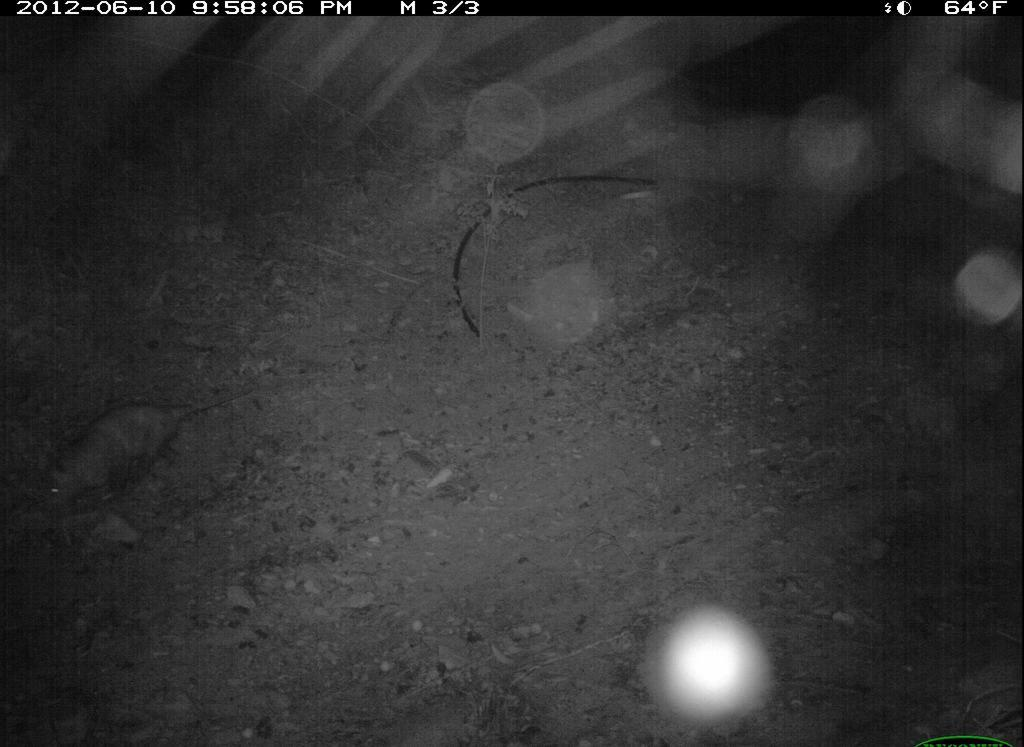opossum: (40, 373, 271, 521)
